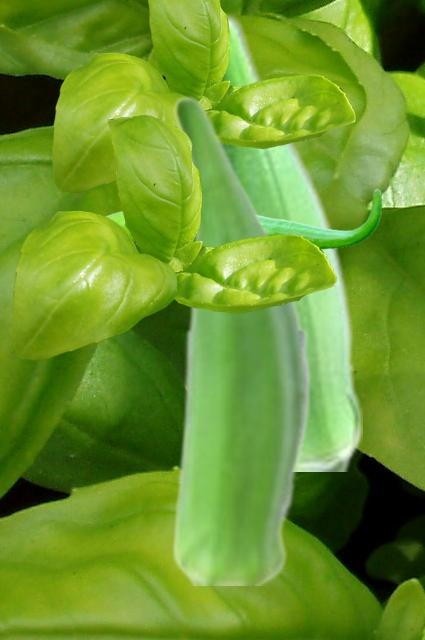okra: (171, 94, 311, 584), (224, 12, 361, 470), (105, 188, 381, 251)
